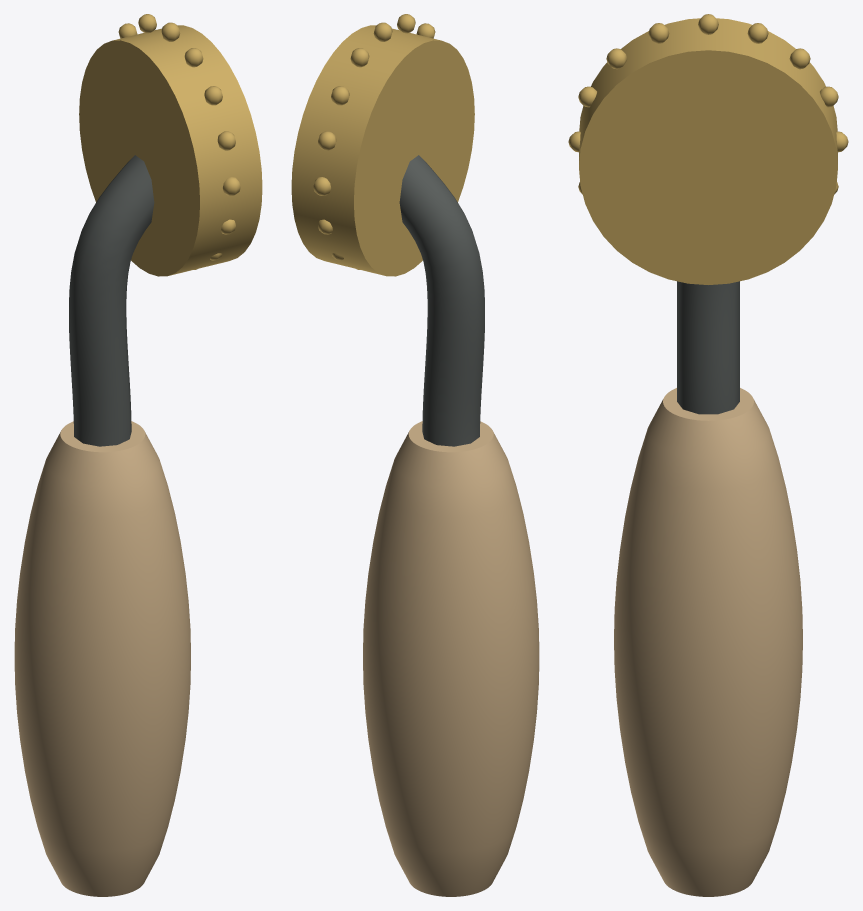
The model's file is bookbinding-and-paper-mill-brass-finishing-roll-33d6aec6__30574.glb.
The picture shows the model from 3 angles, left to right: view 1: azimuth 30°, elevation 25°; view 2: azimuth 150°, elevation 25°; view 3: azimuth 270°, elevation 25°; orthographic projection. The views are drawn at different scales.
Visible parts, largest first — view 1: brass-finishing-roll; view 2: brass-finishing-roll; view 3: brass-finishing-roll.
Part boxes in pixels (left/top/right/bottom): brass-finishing-roll: left=14, top=14, right=262, bottom=896; brass-finishing-roll: left=291, top=14, right=539, bottom=896; brass-finishing-roll: left=568, top=14, right=848, bottom=896.
Size of the model in its own units: 0.062 by 0.283 by 0.08.
